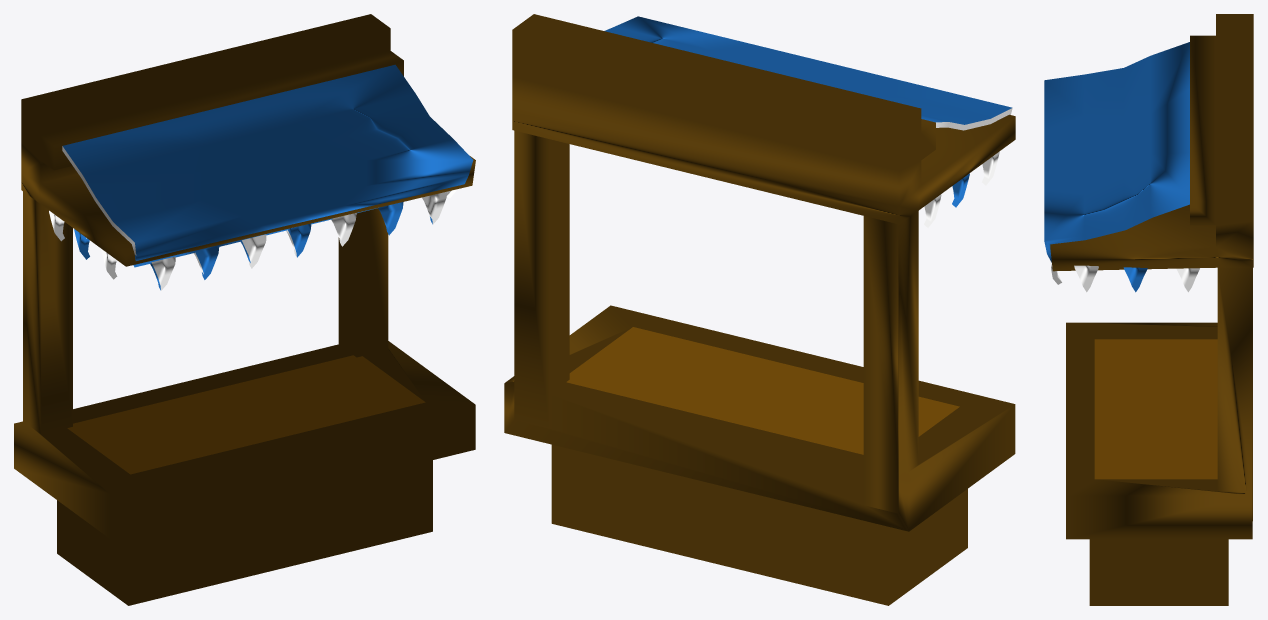
File: StallBlue.fbx
The picture shows the model from 3 angles, left to right: view 1: azimuth 30°, elevation 25°; view 2: azimuth 150°, elevation 25°; view 3: azimuth 270°, elevation 25°; orthographic projection. The views are drawn at different scales.
Parts seen in each view (by area): view 1: Outline; view 2: Outline; view 3: Outline.
Boxes of the visible parts, <box> form: Outline: <box>14,14,475,605</box>; Outline: <box>504,14,1015,605</box>; Outline: <box>1044,14,1253,605</box>.
Bounding box in the file's own units: 3.25 × 3.83 × 1.66.
1 material, 1 textured.
